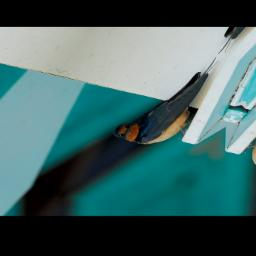Swallow: (103, 46, 237, 153)
